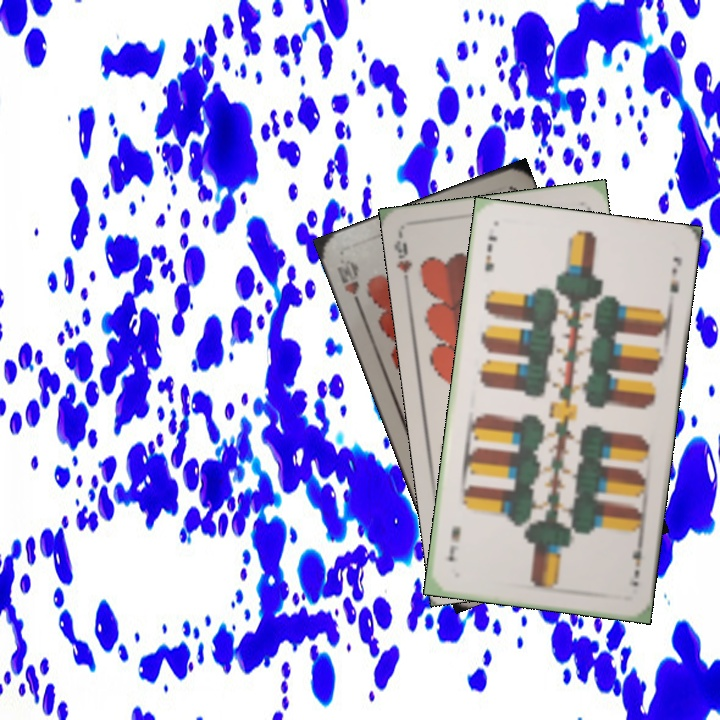E7: (625, 536, 646, 589), (480, 231, 500, 274)
H10: (332, 255, 365, 312)
H9: (390, 237, 415, 290)
